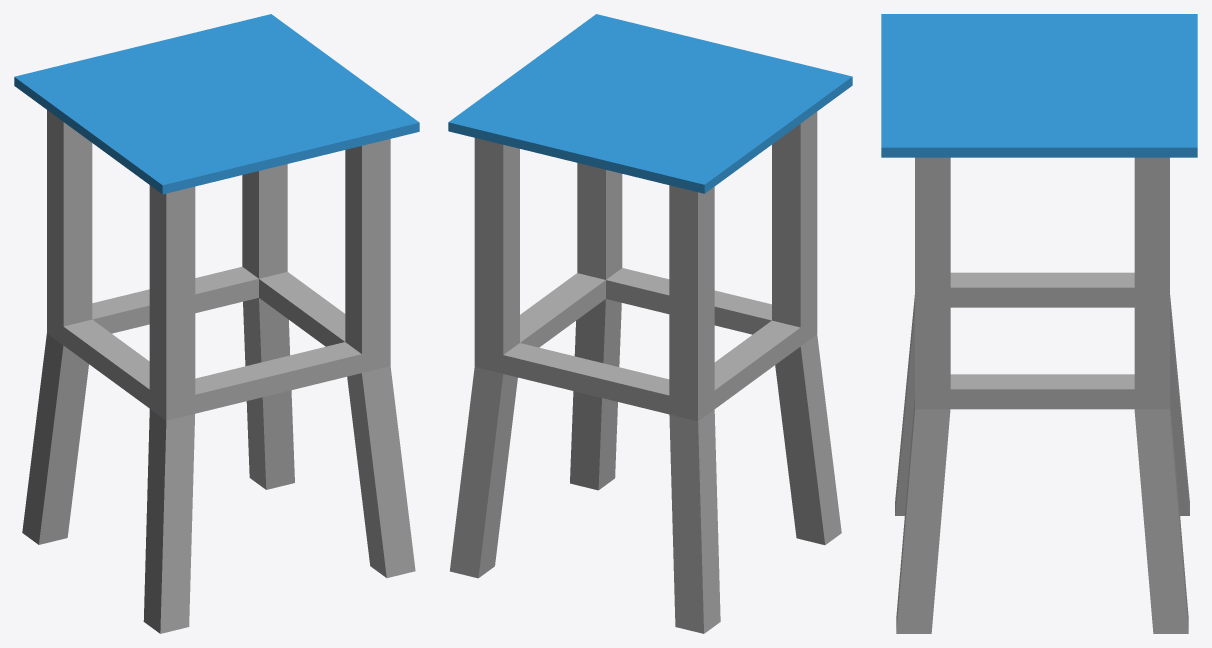
Rendered from ObservationTower.fbx.
3 renders of one model, left to right at view 1: azimuth 30°, elevation 25°; view 2: azimuth 150°, elevation 25°; view 3: azimuth 270°, elevation 25°, orthographic. The views are drawn at different scales.
Visible parts, largest first — view 1: ObservationTower; view 2: ObservationTower; view 3: ObservationTower.
Boxes of the visible parts, x1,y1,x2,y2 form: ObservationTower: (14,14,419,633); ObservationTower: (448,14,852,633); ObservationTower: (881,14,1197,633).
Bounding box in the file's own units: 289 × 483 × 286.
